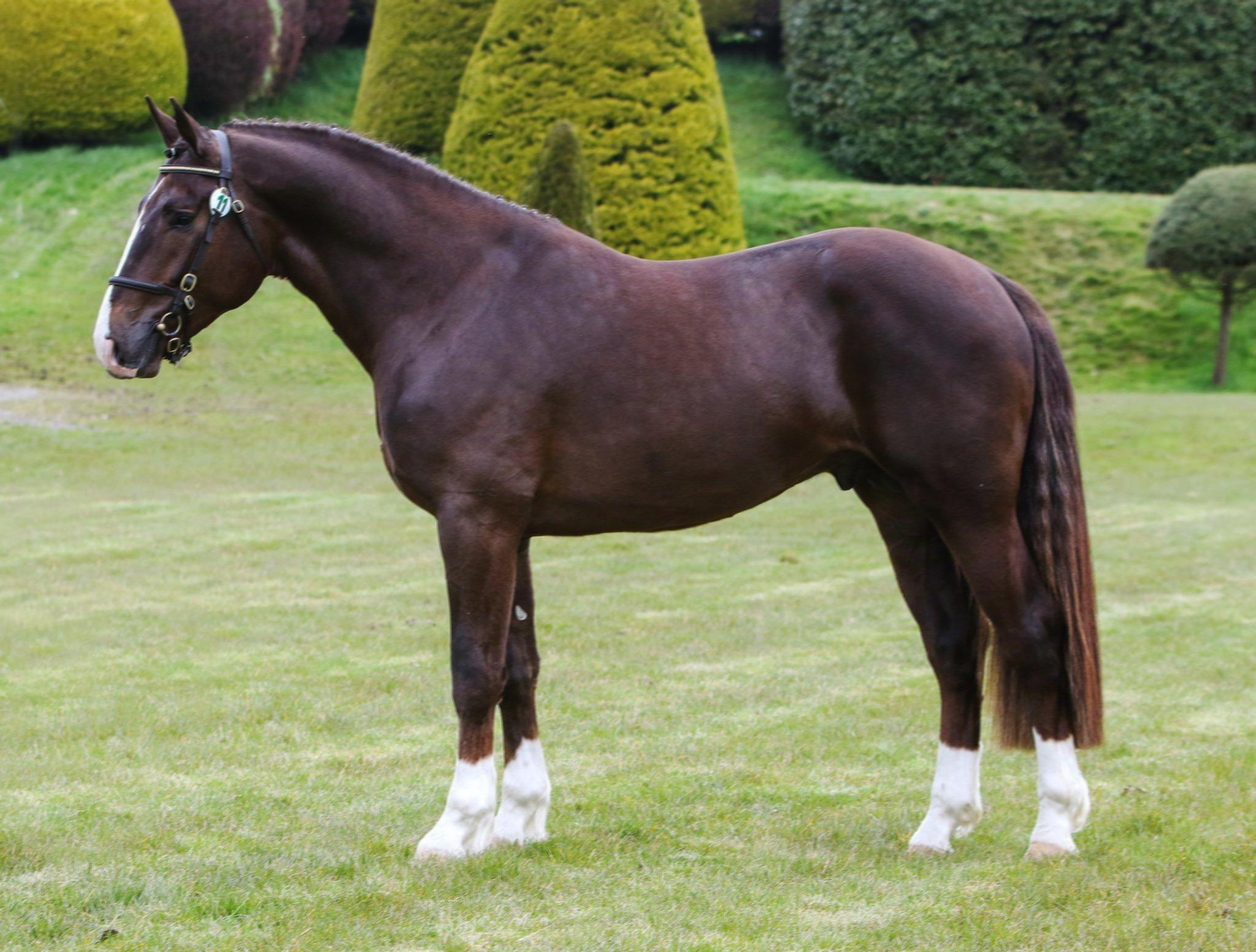horse: (82, 86, 1121, 882)
